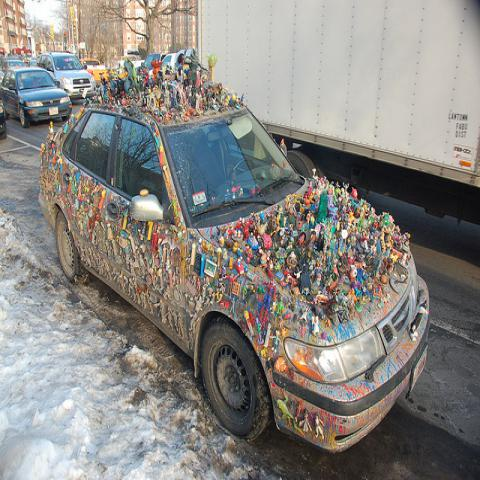car: (39, 51, 430, 453), (1, 65, 74, 129), (35, 49, 95, 99), (119, 58, 146, 70), (3, 60, 26, 73), (146, 53, 168, 61), (30, 56, 38, 68)
truck: (196, 2, 478, 232), (79, 58, 109, 86)
